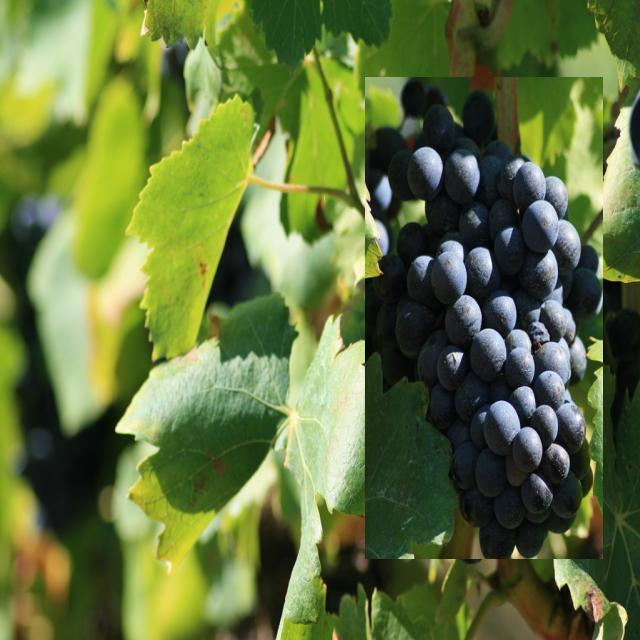Grape: (365, 77, 603, 559)
